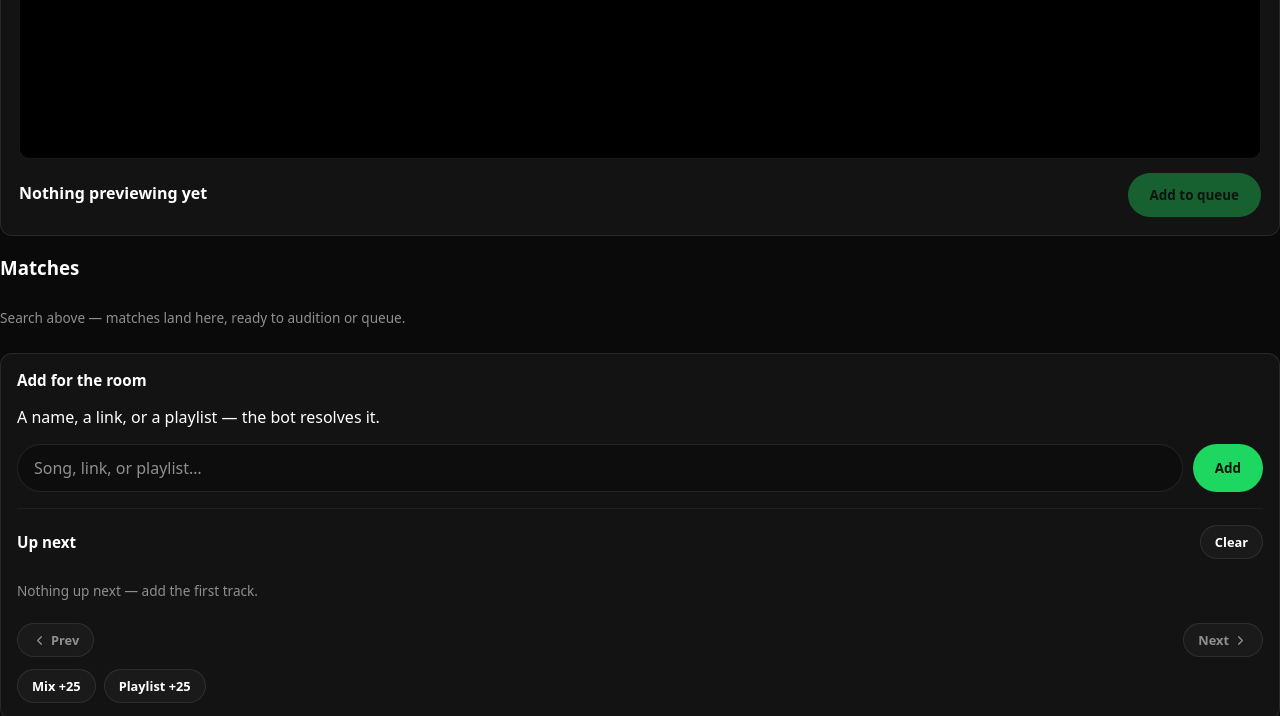
Test case: search + audition (Checkpoint 4) › quick-add resolves on the bot: track answers show the message, search answers render rows
(page scrolled)
Expected: the text "Nothing up next — add the first track." is shown, [17,582,258,600]
Type "some song" into the field named "Song name or YouTube link" at (600, 468), box [17,444,1183,492]
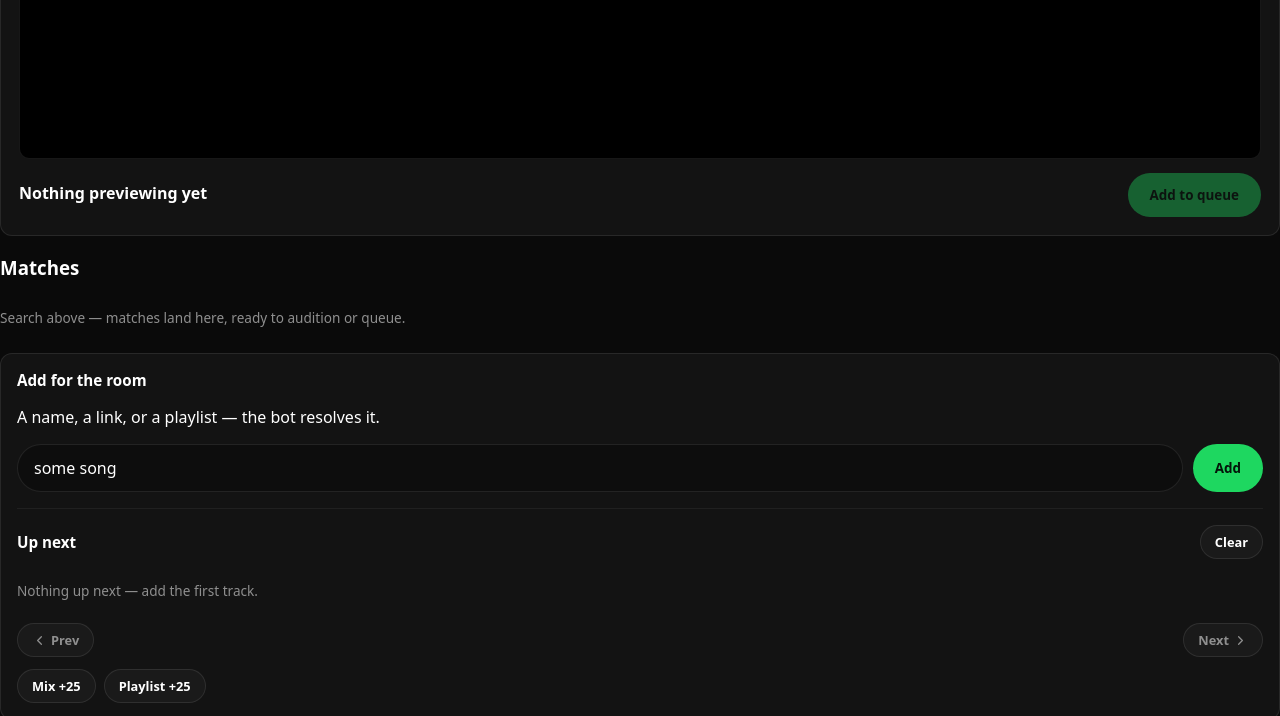
Click the button "Add" at (1228, 468), box [1193,444,1263,492]
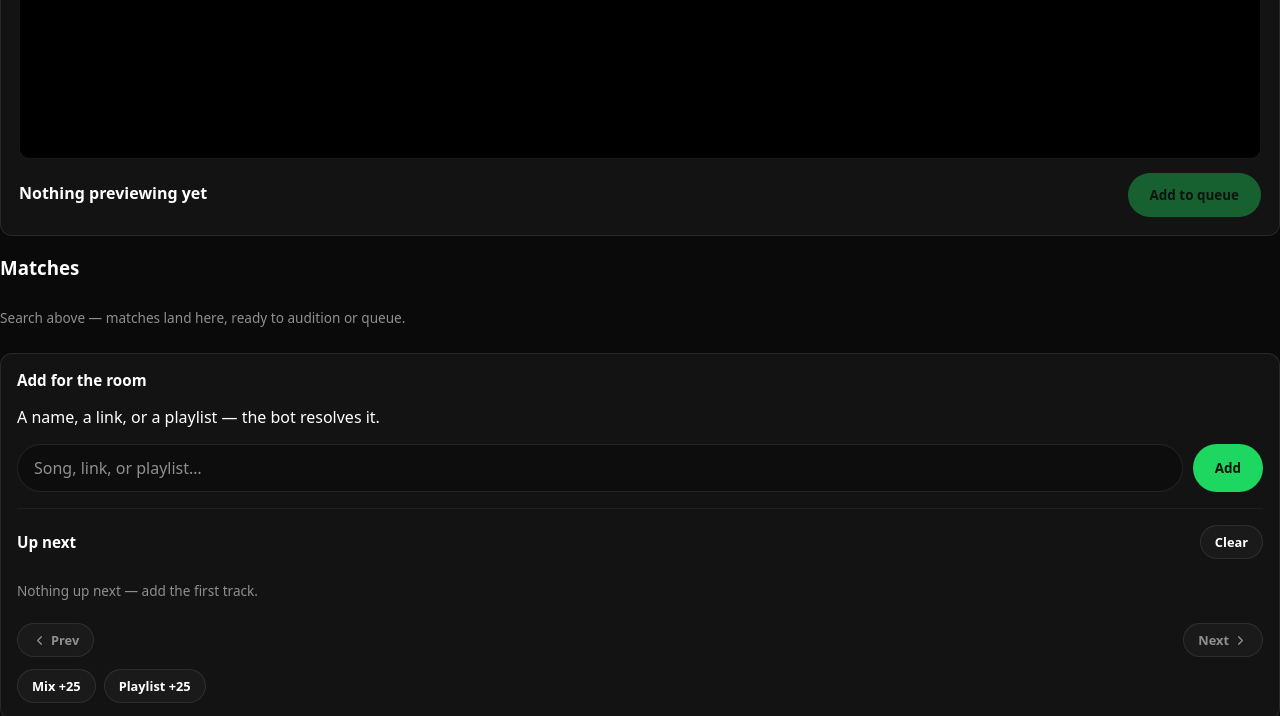
Expected: the text "Test Song One" is not shown
Type "some song" into the field named "Song name or YouTube link" at (600, 468), box [17,444,1183,492]
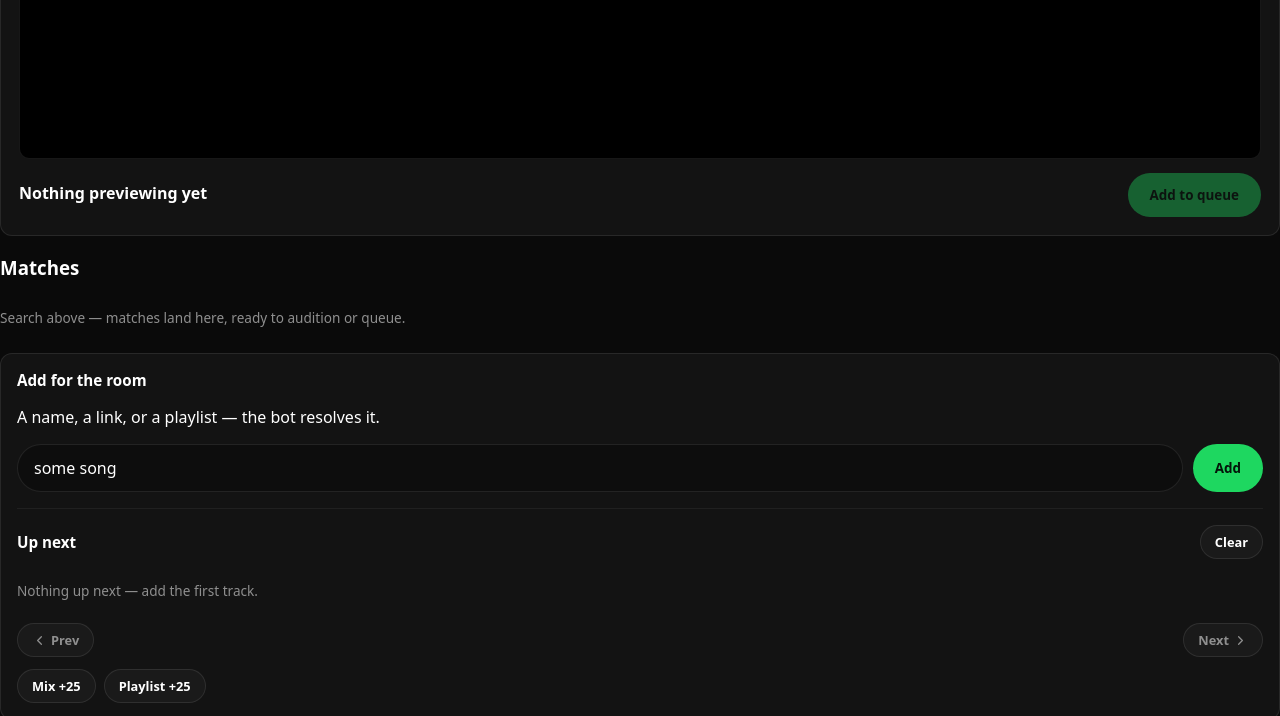
Click the button "Add" at (1228, 468), box [1193,444,1263,492]
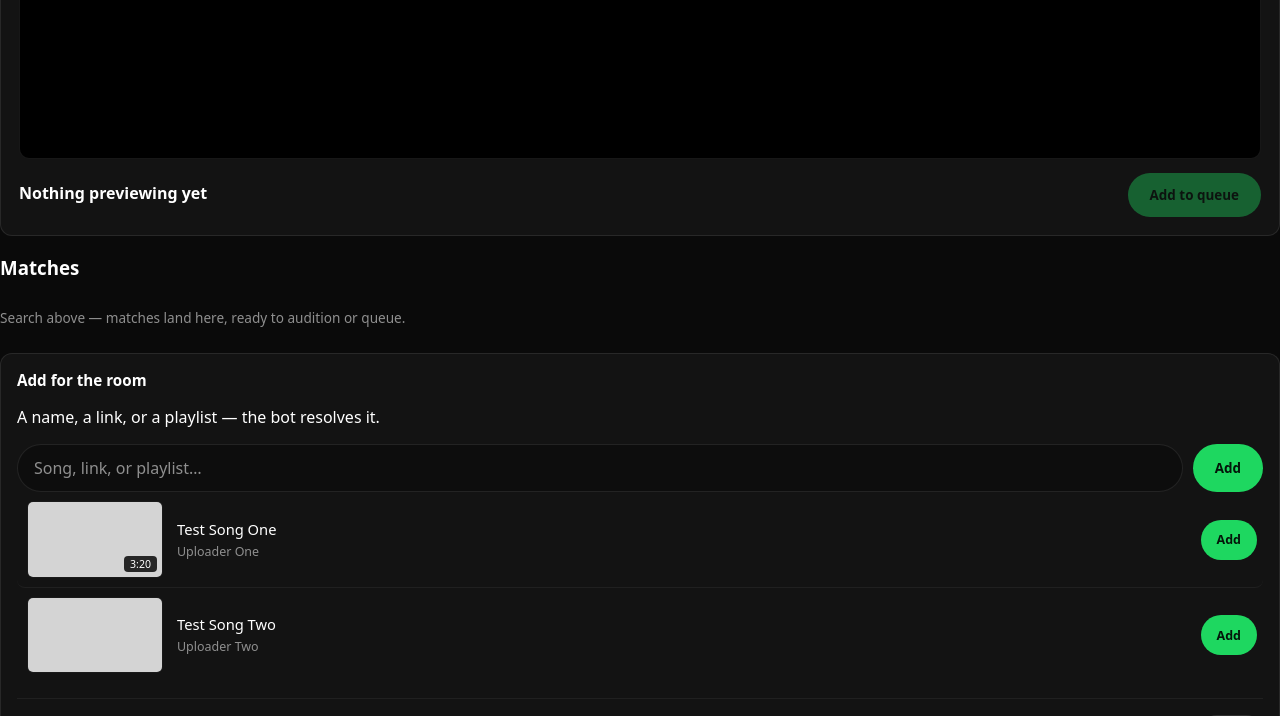
Result: the text "Test Song One" is shown at [177,519,276,539]
Result: the field named "Song name or YouTube link" is empty at [17,444,1183,492]
